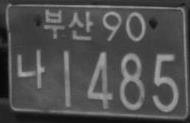0: (125, 11, 146, 41)
1: (53, 50, 80, 107)
4: (86, 50, 113, 110)
5: (151, 53, 179, 112)
8: (118, 51, 145, 111)
9: (101, 10, 123, 42)
나: (15, 48, 44, 88)
부산_O: (43, 8, 93, 41)
